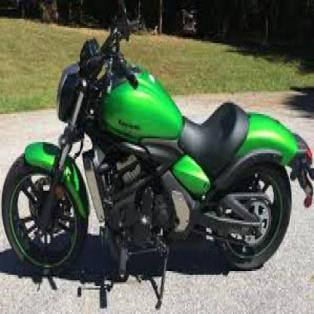Motocicleta: (0, 0, 313, 301)
